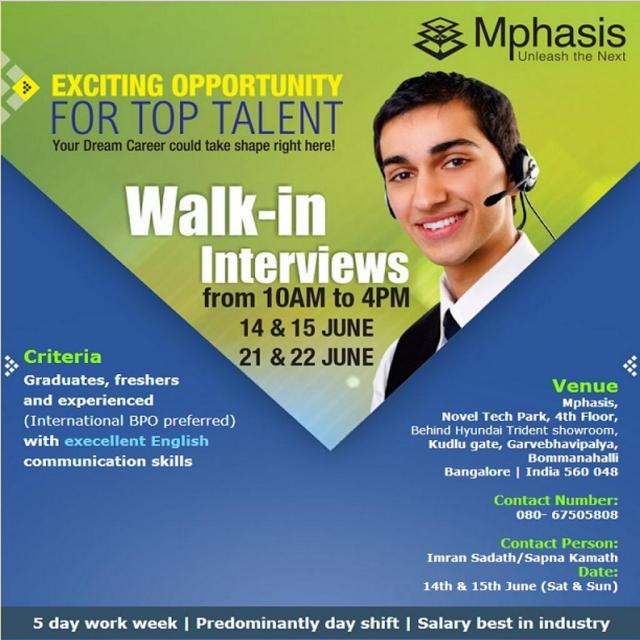nomask: (382, 101, 508, 262)
